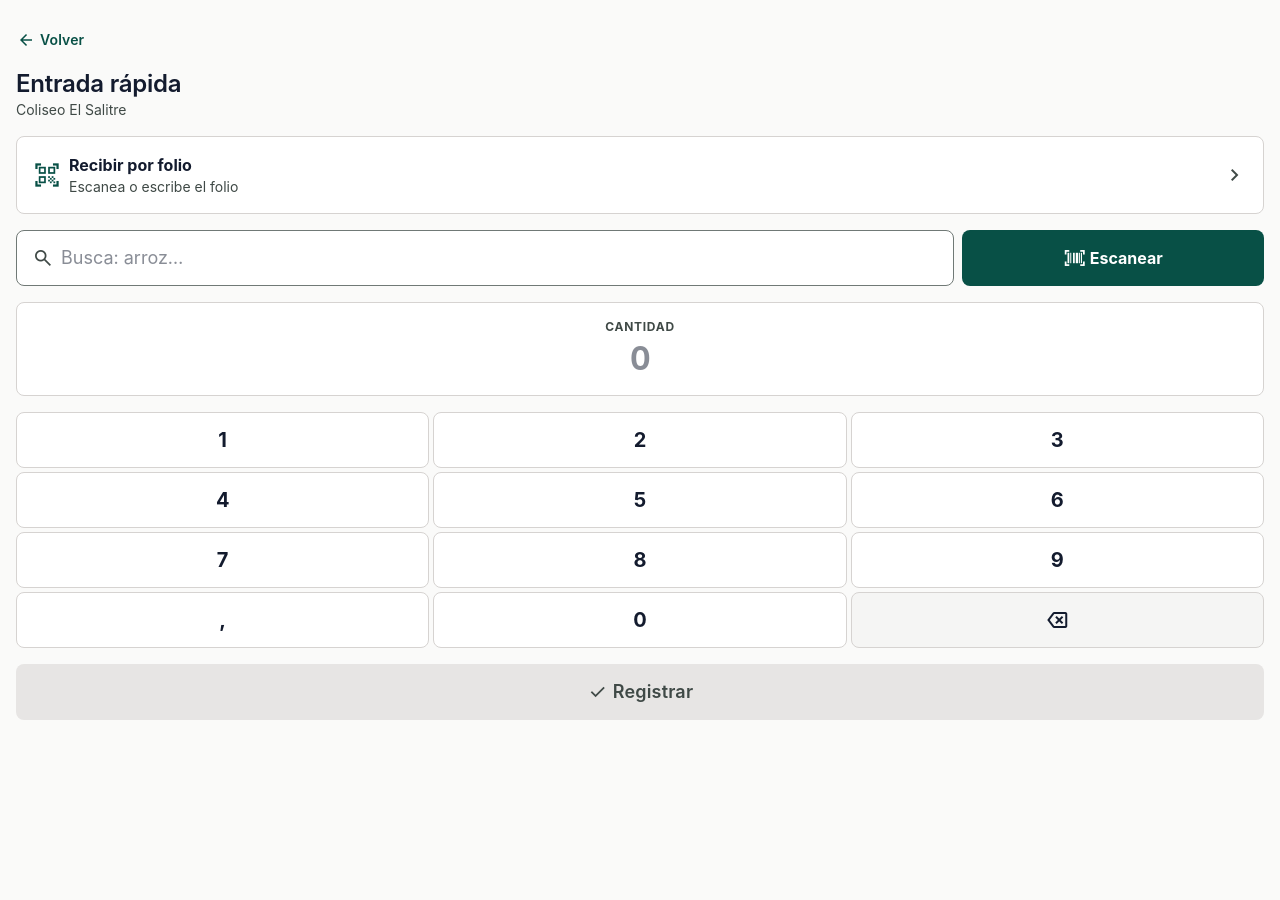
Test case: C4 Entrada rápida › busca la categoría y muestra su saldo actual y su unidad
This screenshot has width=1280, height=900.
Type "panal" into the search field named "Categoría".
click(485, 258); type("panal")  # box [16,230,954,286]
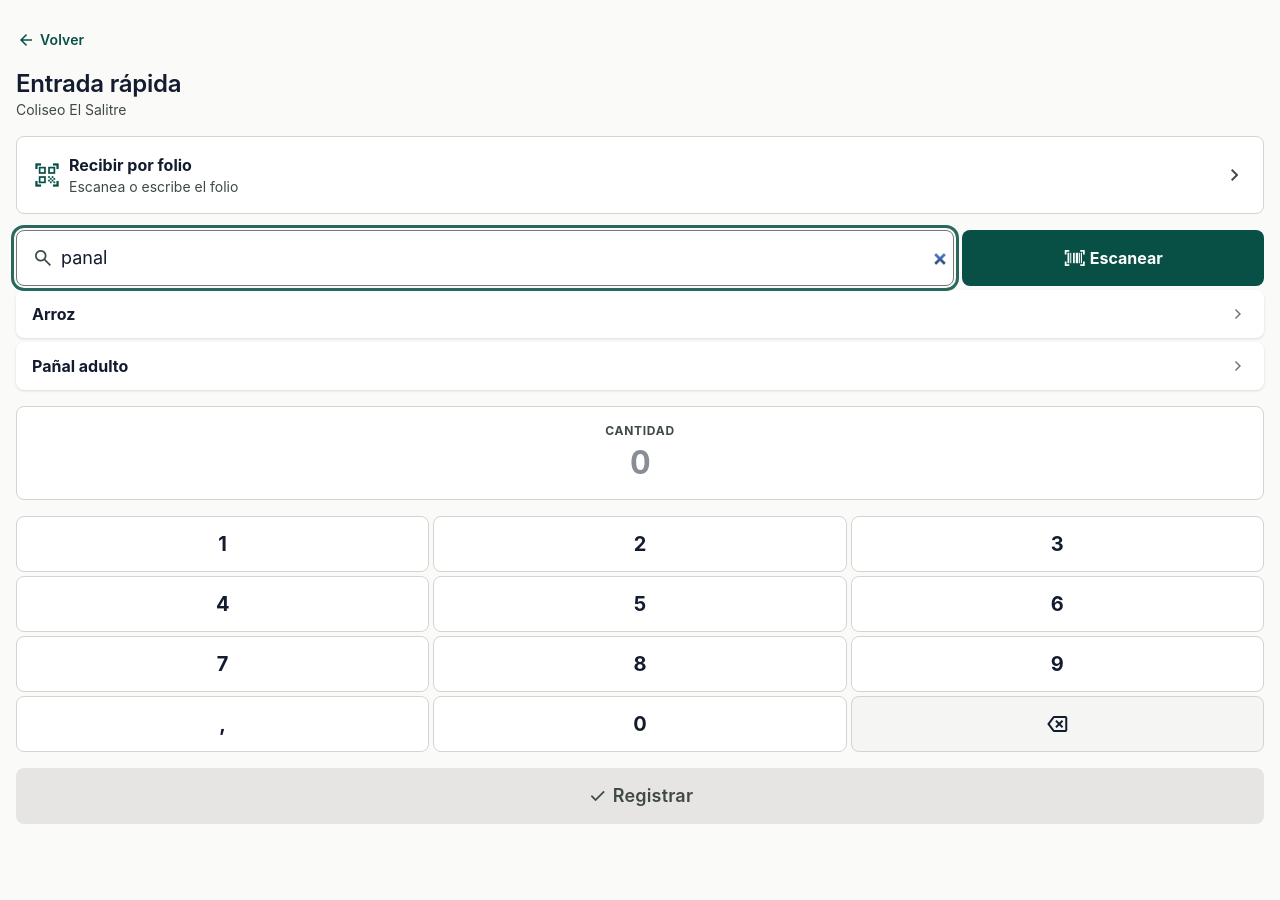
Click the button "Pañal adulto".
click(80, 366)  # box [16,342,1264,390]
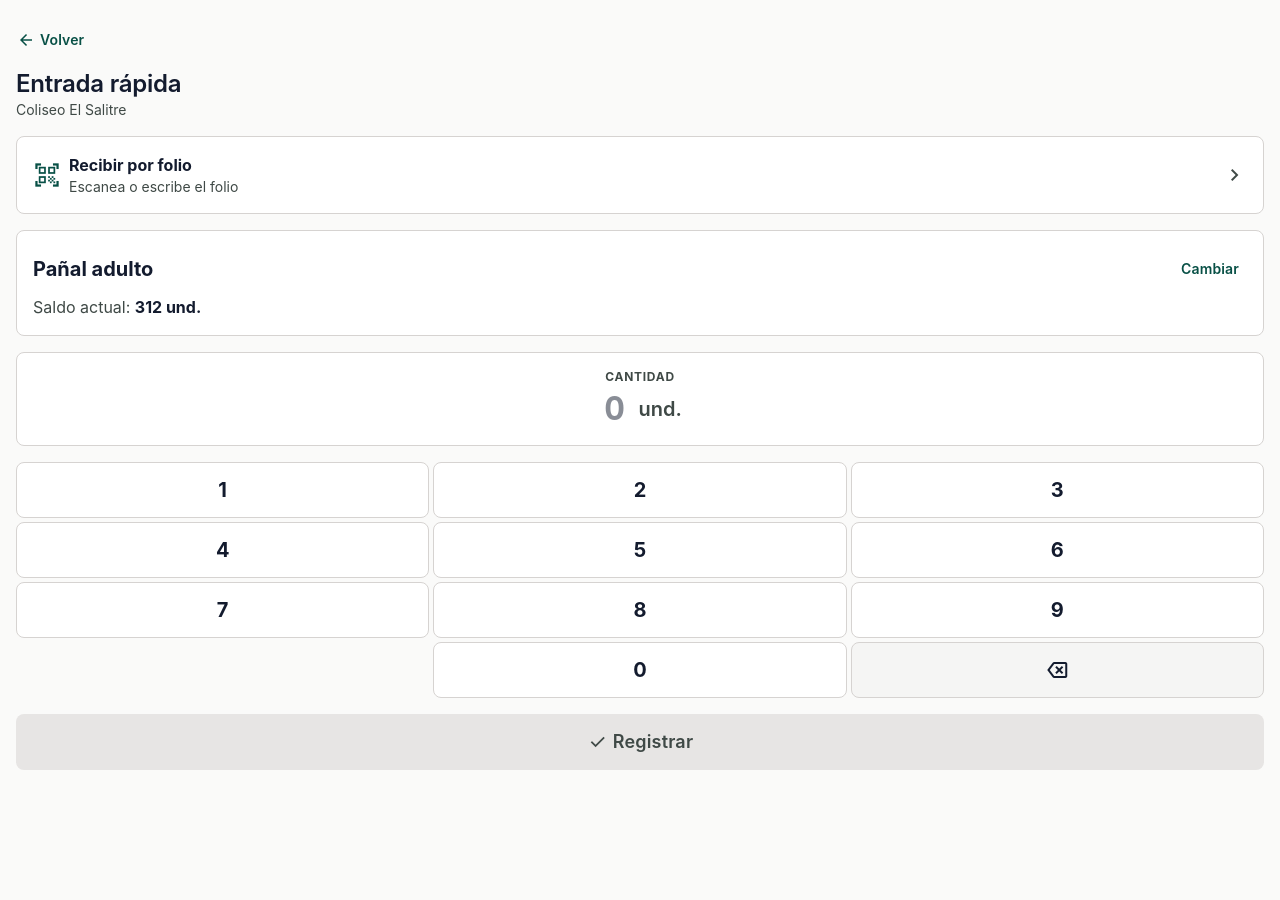
Expected: the element named "Categoría elegida" shows "Pañal adulto", [33,257,153,281]
Expected: the element named "Categoría elegida" shows "Saldo actual: 312 und.", [16,230,1264,336]
